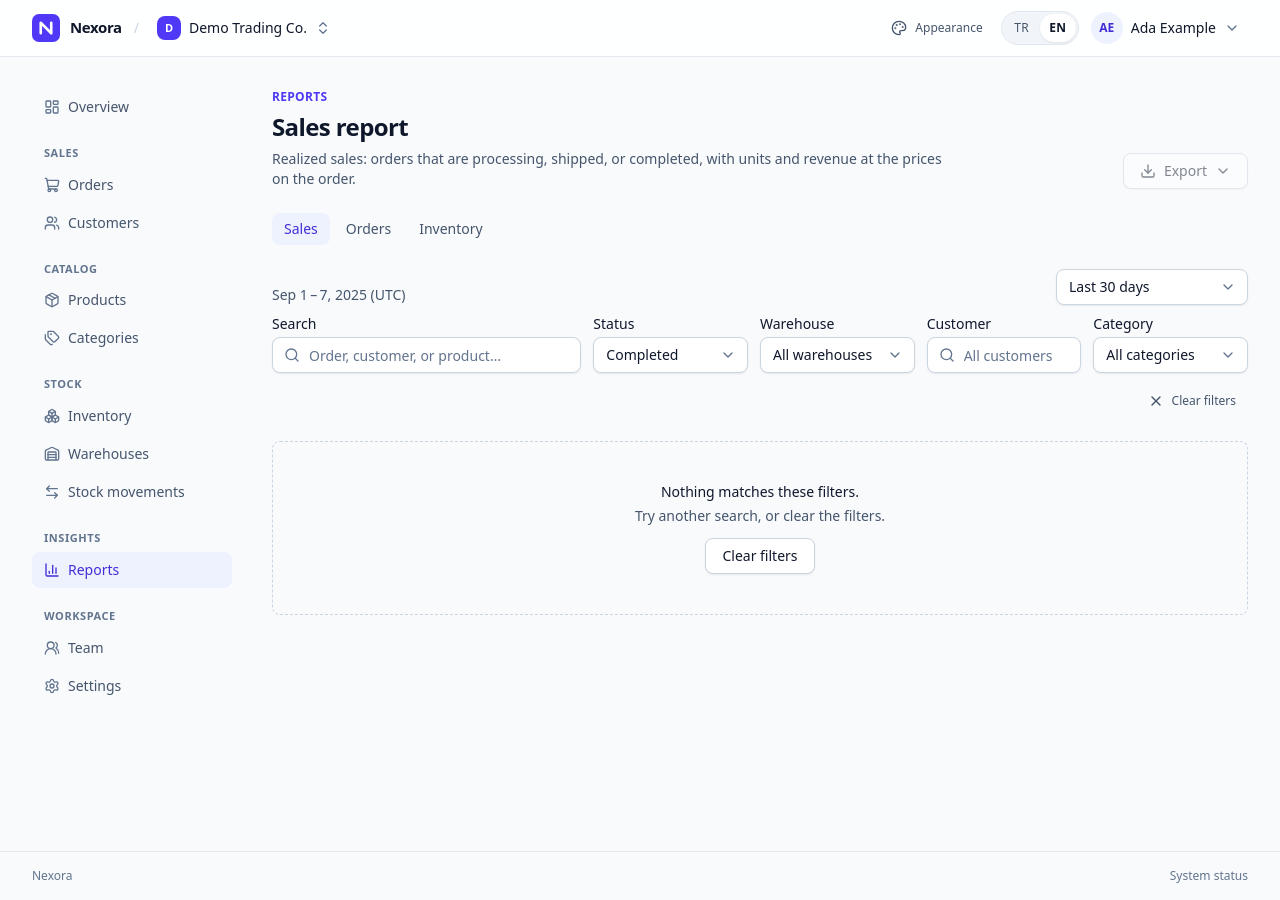
SalesReportPage › distinguishes "no sales yet" from "no matches", and clears filters
The width and height of the screenshot is (1280, 900).
Expected: the heading "Sales report" is shown, [272,110,408,143]
Expected: the text "Nothing matches these filters." is shown, [661,482,859,501]
Click the button "Clear filters" below "Category". click: click(1192, 401)
box: [1136,385,1248,417]
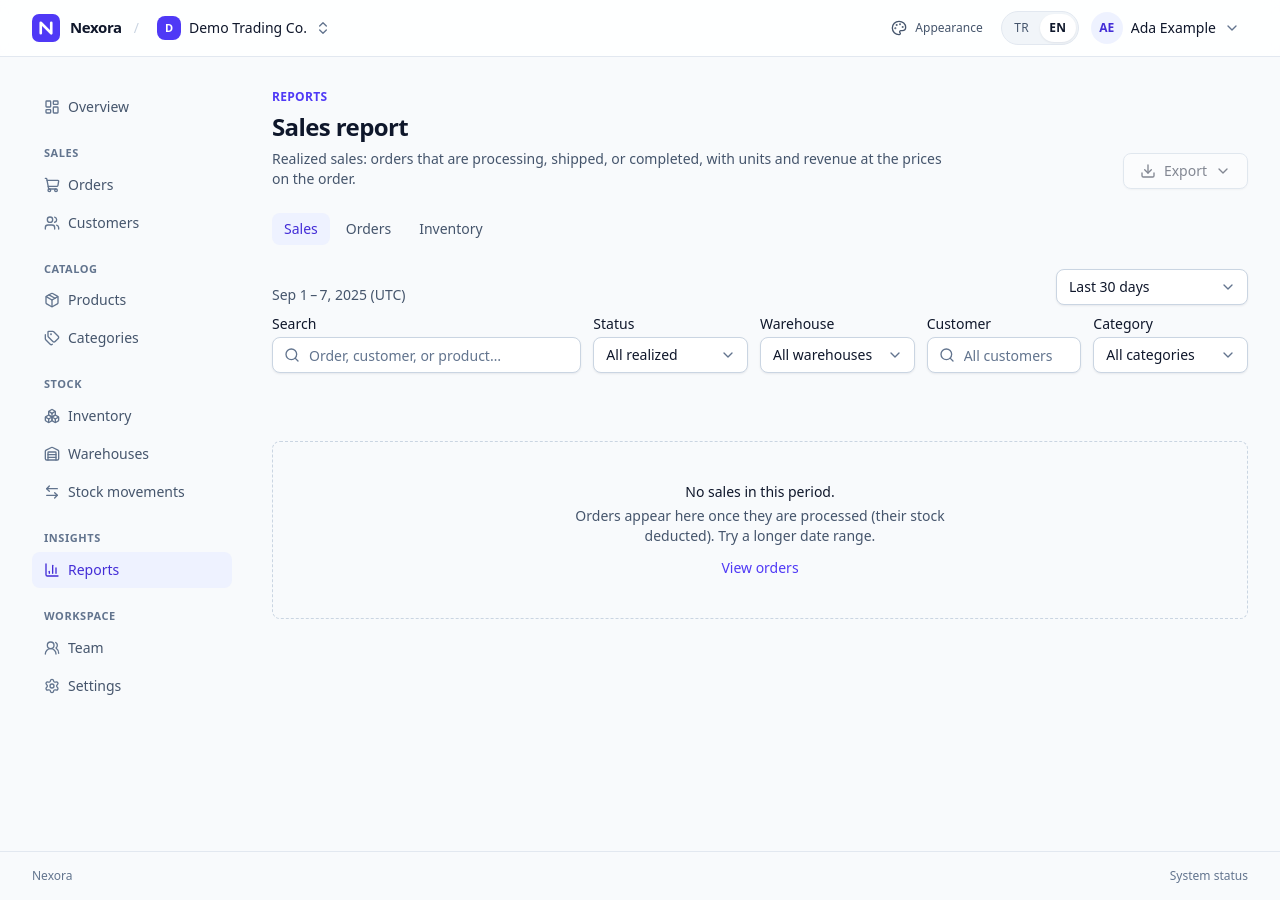
Expected: the text "No sales in this period." is shown, [685,482,835,501]
